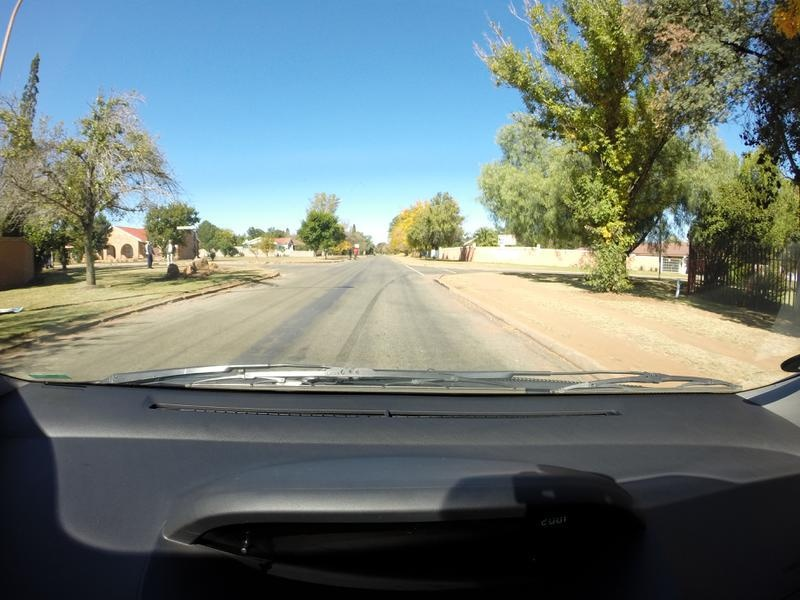pothole: (330, 284, 352, 289)
